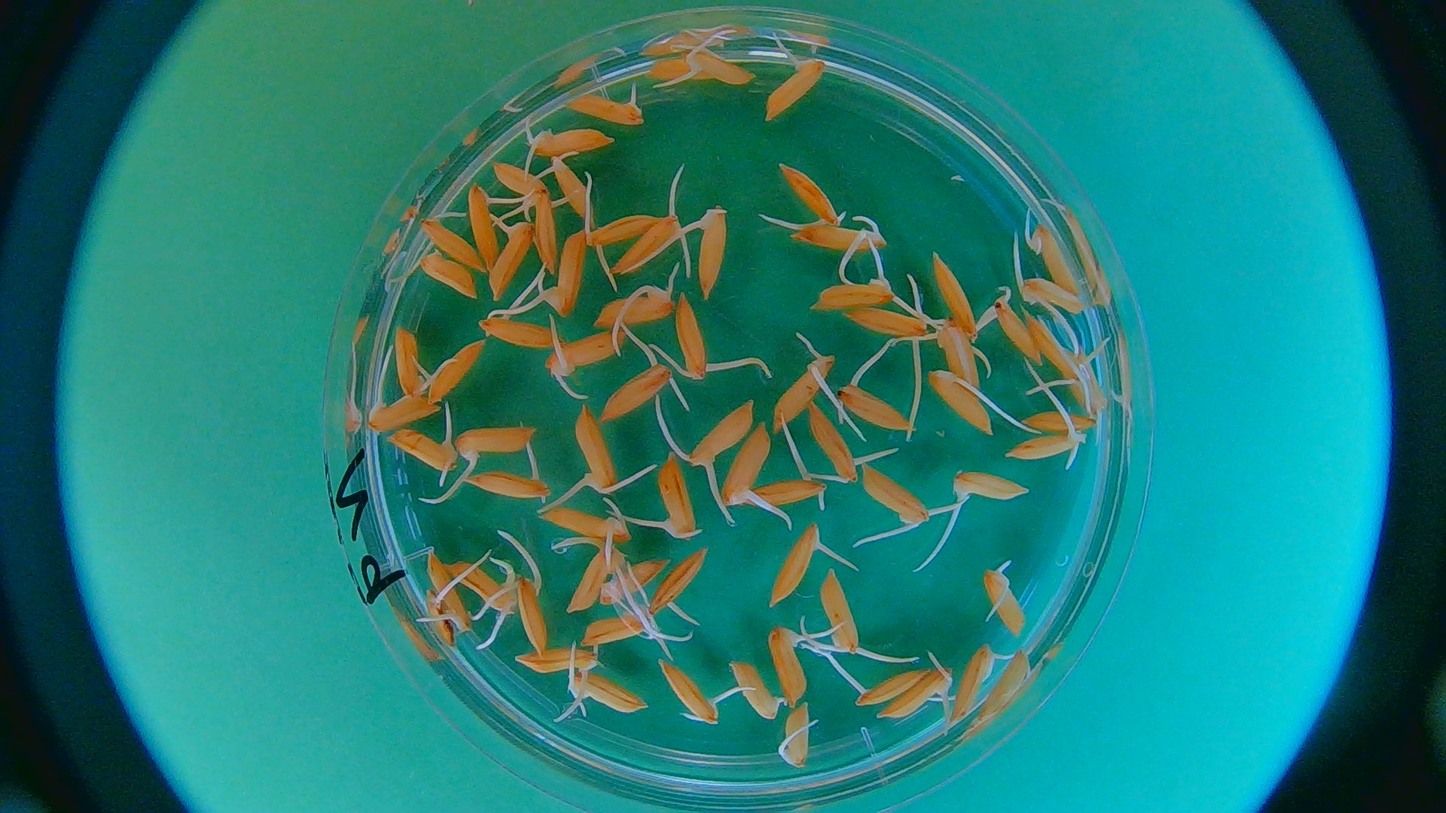no: (980, 649, 1033, 731), (421, 550, 474, 631), (731, 656, 781, 721), (414, 248, 475, 300), (411, 586, 456, 652), (639, 50, 702, 84), (1021, 408, 1101, 431)
yes: (911, 252, 980, 340), (601, 338, 670, 422), (836, 367, 920, 431), (546, 329, 625, 395), (806, 403, 871, 483), (770, 161, 843, 231), (810, 254, 898, 312), (773, 352, 836, 432), (612, 215, 694, 274), (417, 207, 487, 275), (683, 202, 730, 299), (421, 338, 487, 406), (657, 659, 726, 724), (817, 564, 865, 657), (572, 404, 621, 495), (538, 501, 633, 547), (721, 420, 771, 507), (589, 281, 676, 330), (765, 52, 825, 123), (986, 291, 1045, 363), (1024, 310, 1088, 376), (861, 464, 926, 528), (928, 367, 992, 431), (690, 406, 756, 468), (543, 155, 595, 233), (775, 526, 825, 607), (954, 641, 1004, 719), (648, 547, 706, 614), (565, 668, 647, 715), (478, 305, 565, 349), (566, 546, 624, 612), (771, 629, 820, 707), (544, 229, 587, 316), (462, 181, 504, 270), (846, 662, 929, 707), (488, 220, 532, 302), (387, 429, 459, 479), (878, 668, 953, 716), (657, 457, 698, 541), (1029, 225, 1078, 294), (453, 422, 539, 461), (792, 216, 890, 250), (673, 300, 713, 383), (981, 564, 1028, 634), (519, 191, 557, 277), (455, 467, 560, 498), (600, 561, 666, 610), (516, 567, 552, 656), (839, 304, 930, 339), (447, 561, 511, 610), (367, 391, 441, 433), (513, 646, 601, 681), (950, 470, 1031, 508), (581, 613, 664, 649), (1073, 342, 1109, 425), (1014, 269, 1084, 311), (743, 482, 828, 516), (492, 159, 556, 203), (684, 47, 752, 87), (777, 703, 817, 770), (562, 92, 645, 124), (527, 128, 615, 156), (1007, 430, 1086, 461), (394, 327, 426, 400), (587, 220, 663, 247)
